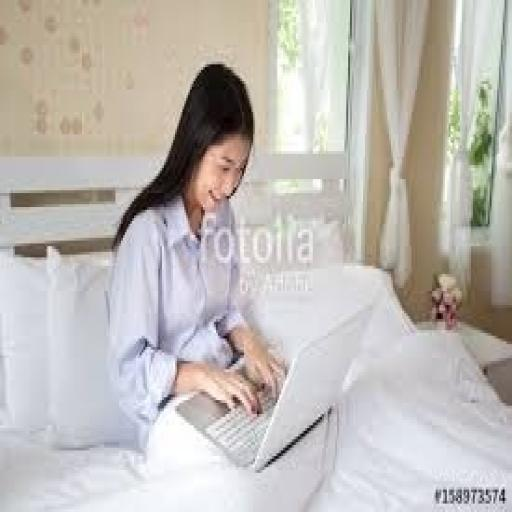using_laptop: (174, 299, 372, 473)
